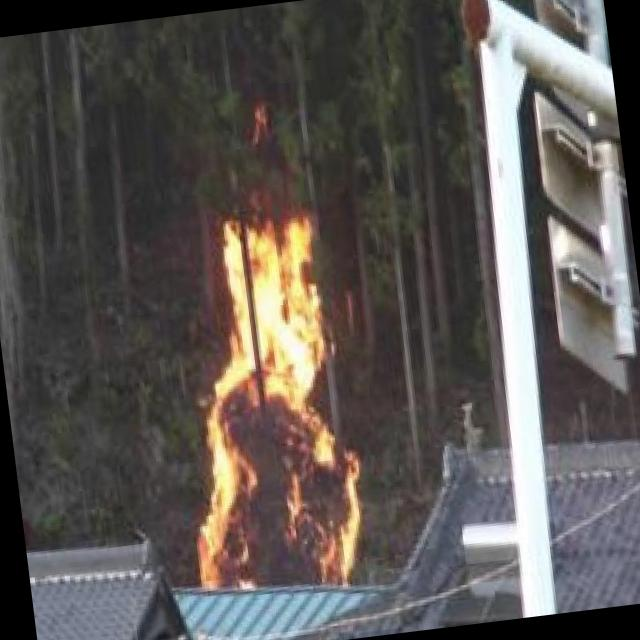Smoke: (156, 198, 388, 604)
